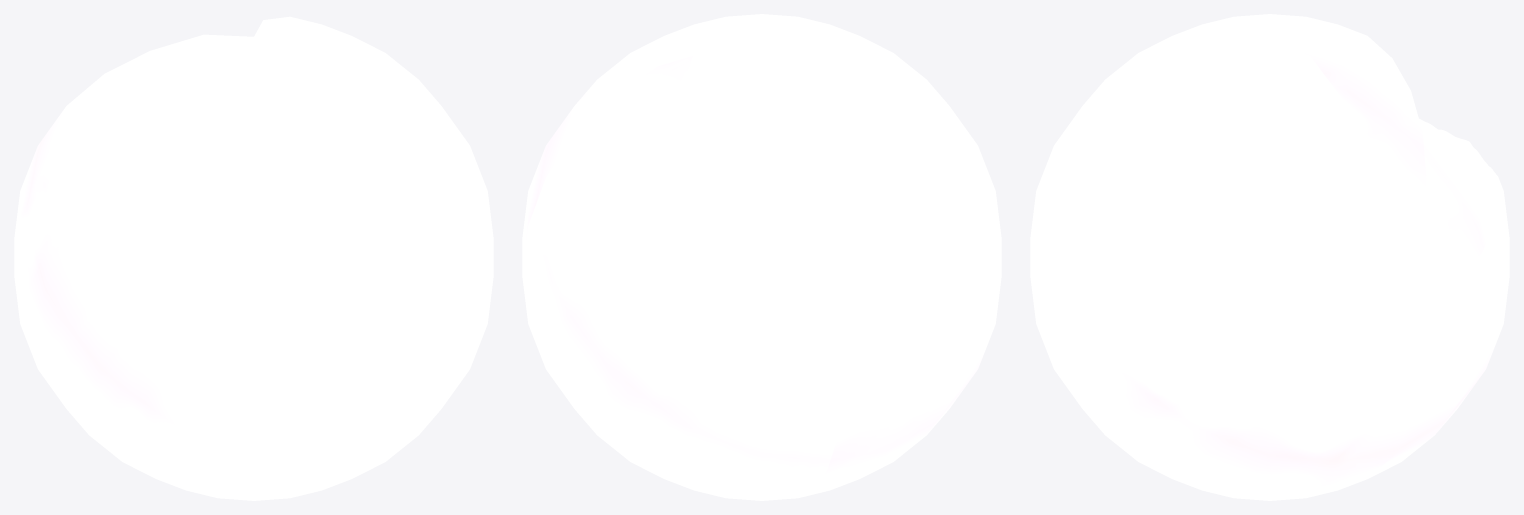
3 views of the same model, side by side, from view 1: azimuth 30°, elevation 25°; view 2: azimuth 150°, elevation 25°; view 3: azimuth 270°, elevation 25° (orthographic).
Visible parts, largest first — view 1: SM_Onion_Plant_Diseased_01_LOD0; view 2: SM_Onion_Plant_Diseased_01_LOD0; view 3: SM_Onion_Plant_Diseased_01_LOD0.
Part boxes in pixels (x1,y1,x2,y2): SM_Onion_Plant_Diseased_01_LOD0: (14,16,493,500); SM_Onion_Plant_Diseased_01_LOD0: (522,14,1001,500); SM_Onion_Plant_Diseased_01_LOD0: (1030,14,1509,500).
Size of the model in its own units: 0.4732 by 0.4732 by 0.466.
